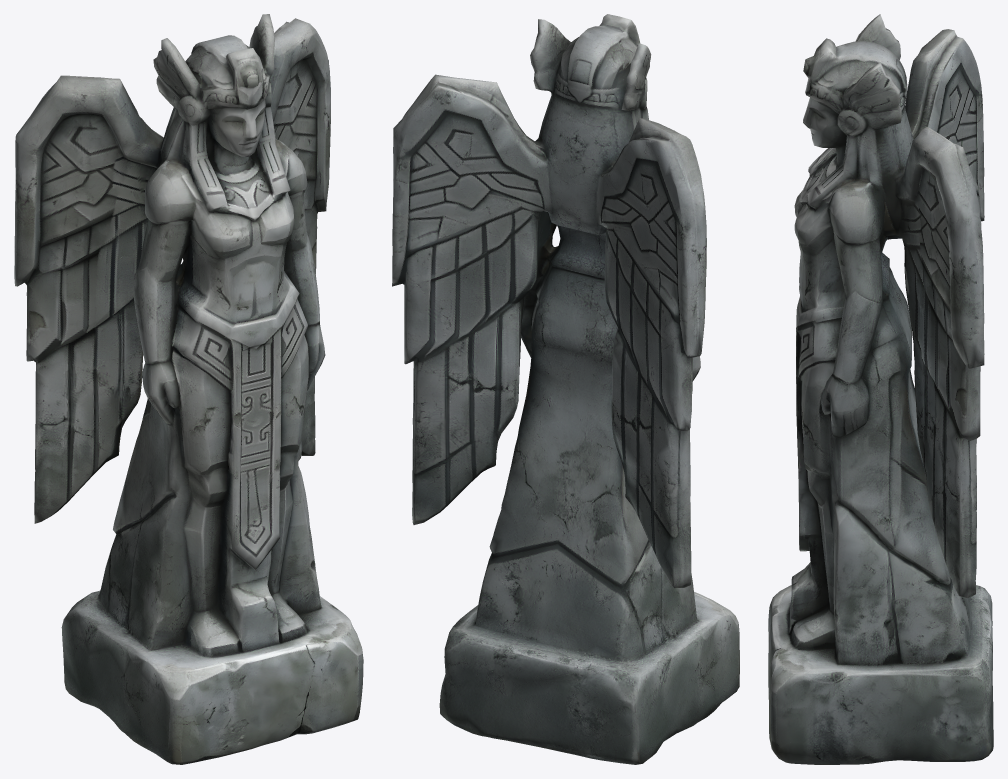
Rendered from p_fairtymotherstatues.glb.
The picture shows the model from 3 angles, left to right: view 1: azimuth 30°, elevation 25°; view 2: azimuth 150°, elevation 25°; view 3: azimuth 270°, elevation 25°; orthographic projection.
Bounding box in the file's own units: 0.9199 × 1.91 × 0.5758.
1 material, 1 textured.
